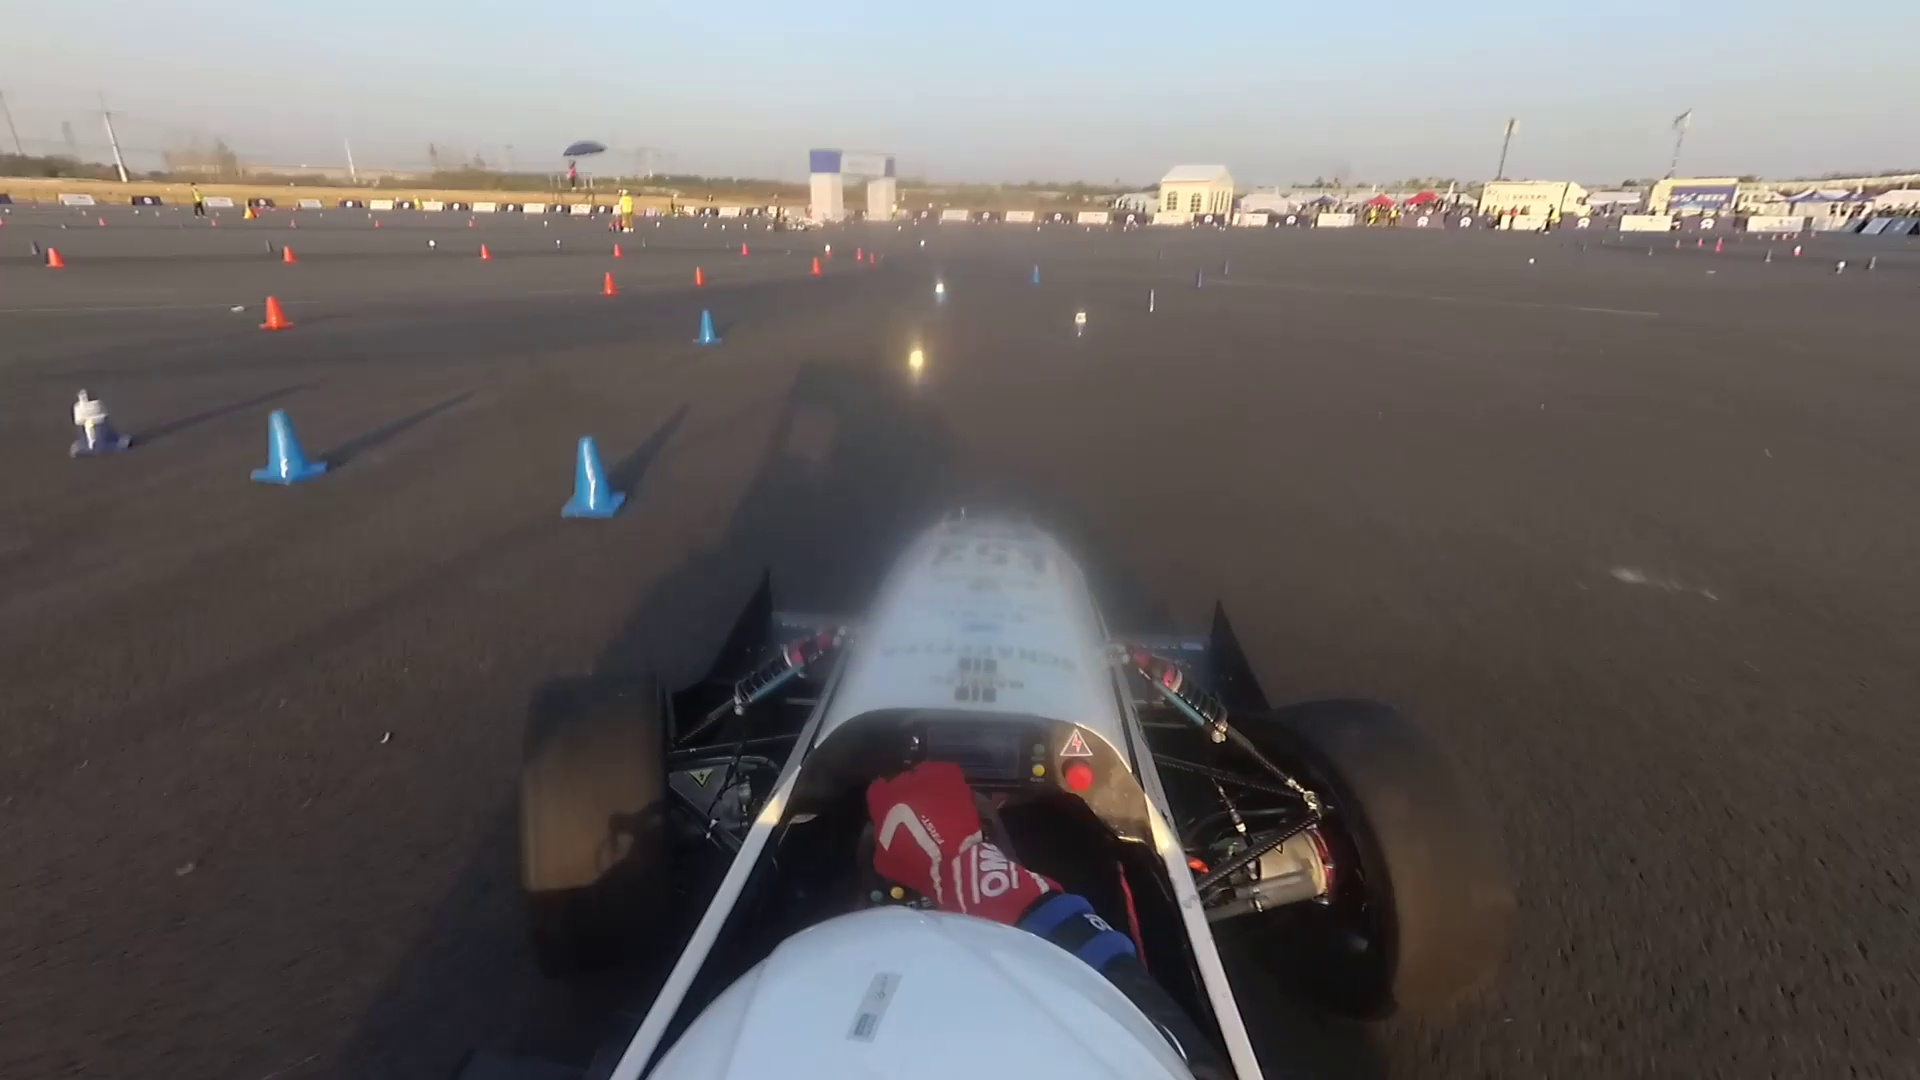blue_cone: (555, 440, 632, 527), (256, 409, 316, 496), (71, 386, 135, 456), (1063, 306, 1098, 352), (920, 277, 956, 309), (698, 313, 723, 345), (1139, 285, 1159, 316), (1185, 269, 1207, 297), (1025, 262, 1043, 286), (1221, 255, 1230, 282), (425, 237, 438, 252), (264, 239, 276, 255), (29, 237, 40, 255)
red_cone: (255, 295, 291, 331), (599, 274, 617, 299), (47, 248, 65, 268), (281, 245, 297, 265), (691, 268, 705, 286), (810, 258, 822, 274), (479, 244, 489, 260), (612, 244, 622, 258), (741, 244, 750, 258), (823, 244, 832, 258), (855, 247, 861, 262), (869, 252, 876, 266)
